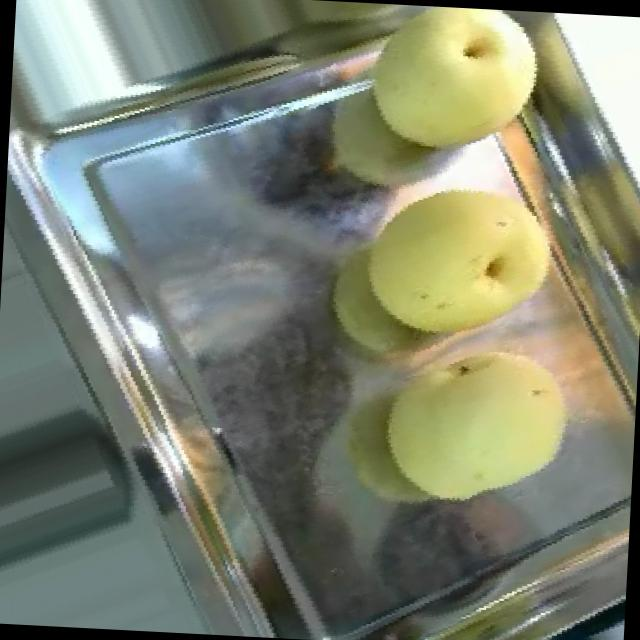Fruit: (321, 181, 640, 546), (332, 1, 568, 184)
